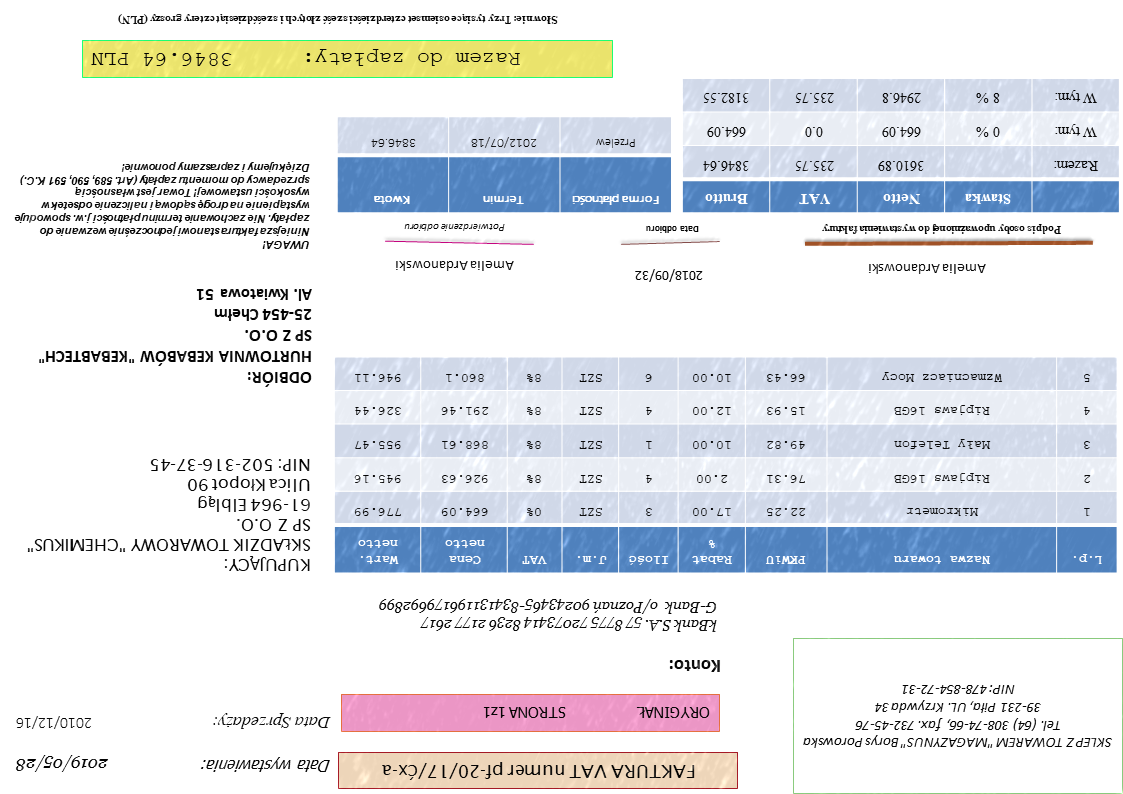Table: (333, 356, 1120, 575), (683, 78, 1121, 215), (337, 116, 673, 214)
TextBox: (24, 455, 315, 576), (35, 285, 314, 389), (12, 161, 313, 253), (801, 682, 1114, 752), (375, 596, 720, 635), (90, 47, 523, 69), (379, 760, 698, 783), (117, 12, 560, 28), (481, 703, 711, 722), (822, 222, 1064, 238), (200, 754, 332, 778), (211, 712, 333, 732), (14, 753, 111, 775), (867, 260, 988, 277), (394, 259, 516, 273), (402, 221, 508, 235), (15, 715, 94, 732), (634, 267, 705, 284), (669, 656, 723, 676), (646, 223, 702, 236)
